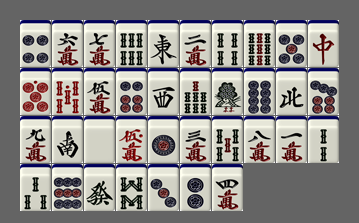0m: (116, 116, 147, 163)
0p: (20, 68, 51, 115)
0s: (52, 68, 83, 115)
1m: (276, 116, 307, 163)
1p: (148, 116, 179, 163)
1s: (212, 68, 243, 115)
1z: (148, 20, 179, 67)
2m: (180, 20, 211, 67)
2p: (180, 164, 211, 211)
2s: (308, 116, 339, 163)
2z: (52, 116, 83, 163)
3m: (180, 116, 211, 163)
3p: (148, 164, 179, 211)
3s: (20, 164, 51, 211)
3z: (148, 68, 179, 115)
4m: (212, 164, 243, 211)
4p: (20, 20, 51, 67)
4s: (212, 20, 243, 67)
4z: (276, 68, 307, 115)
5m: (84, 68, 115, 115)
5p: (276, 20, 307, 67)
5s: (212, 116, 243, 163)
5z: (84, 116, 115, 163)
6m: (52, 20, 83, 67)
6p: (116, 68, 147, 115)
6s: (116, 20, 147, 67)
6z: (84, 164, 115, 211)
7m: (84, 20, 115, 67)
7p: (308, 68, 339, 115)
7s: (180, 68, 211, 115)
7z: (308, 20, 339, 67)
8m: (244, 116, 275, 163)
8p: (244, 68, 275, 115)
8s: (116, 164, 147, 211)
9m: (20, 116, 51, 163)
9p: (52, 164, 83, 211)
9s: (244, 20, 275, 67)
